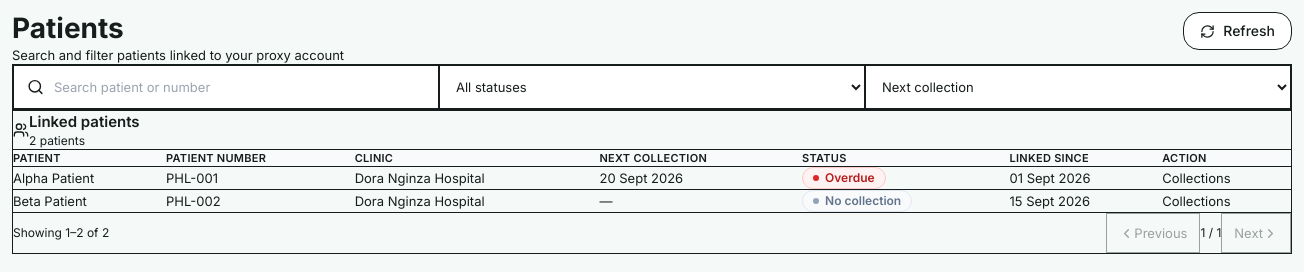
Test: ProxyPatientsPage › filters the proxy list to overdue collections
Check: the heading "Linked patients" is shown, box x1=29 y1=111 x2=140 y2=133
Select "Overdue" in the 1st dropdown showing "All statuses" at (652, 87), box x1=439 y1=65 x2=865 y2=109
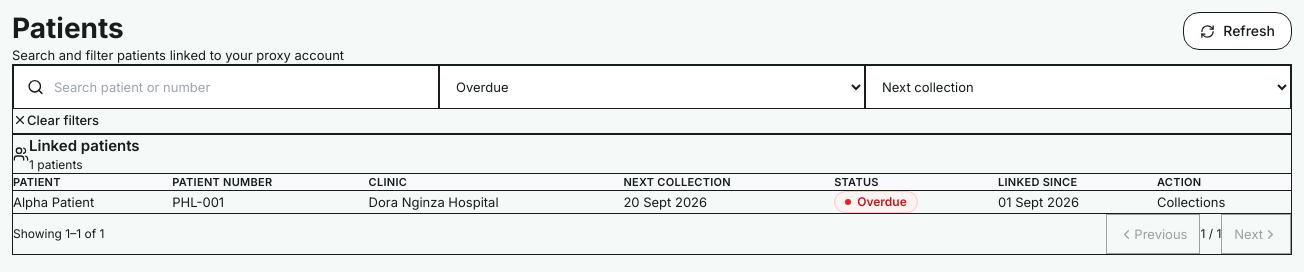
Check: the text "1 patients" is shown, box x1=29 y1=156 x2=82 y2=172
Check: the text "Beta Patient" is not shown
